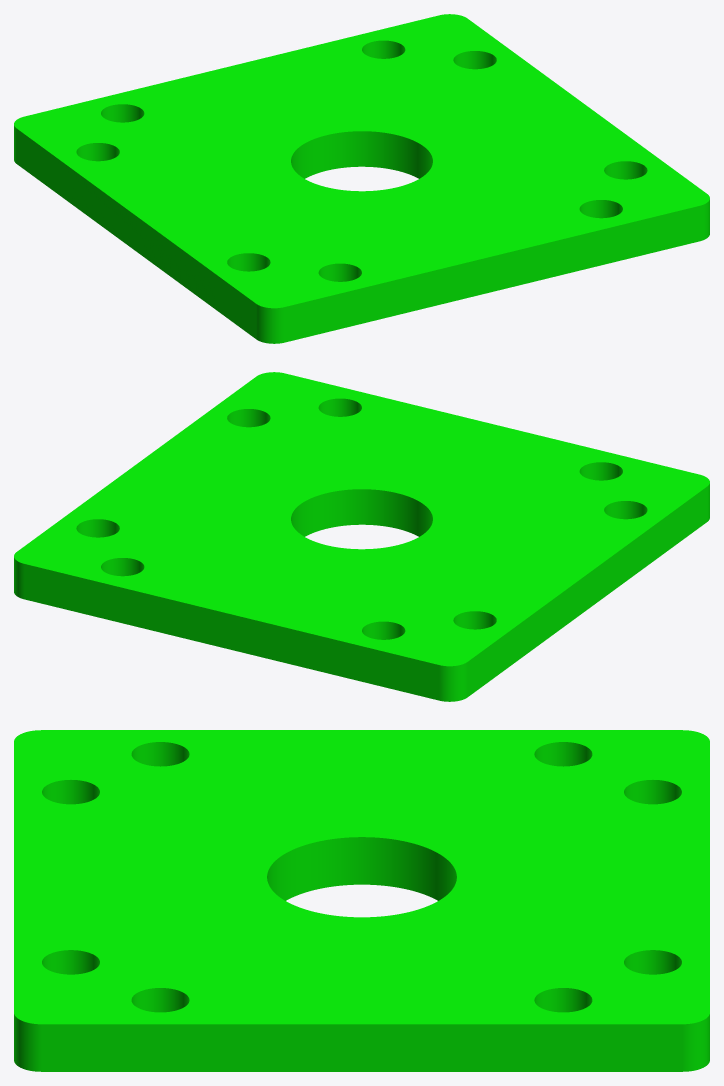
The model's file is V5_Top Mount (SM05).obj.
3 views of the same model, one above another, from view 1: azimuth 30°, elevation 25°; view 2: azimuth 150°, elevation 25°; view 3: azimuth 270°, elevation 25° (orthographic). The views are drawn at different scales.
Visible parts, largest first — view 1: Solid1:46; view 2: Solid1:46; view 3: Solid1:46.
Boxes of the visible parts, left/top/right/bottom form: Solid1:46: left=14, top=14, right=709, bottom=343; Solid1:46: left=14, top=372, right=709, bottom=701; Solid1:46: left=14, top=730, right=709, bottom=1071.
Size of the model in its own units: 49.75 by 3.75 by 49.75.
